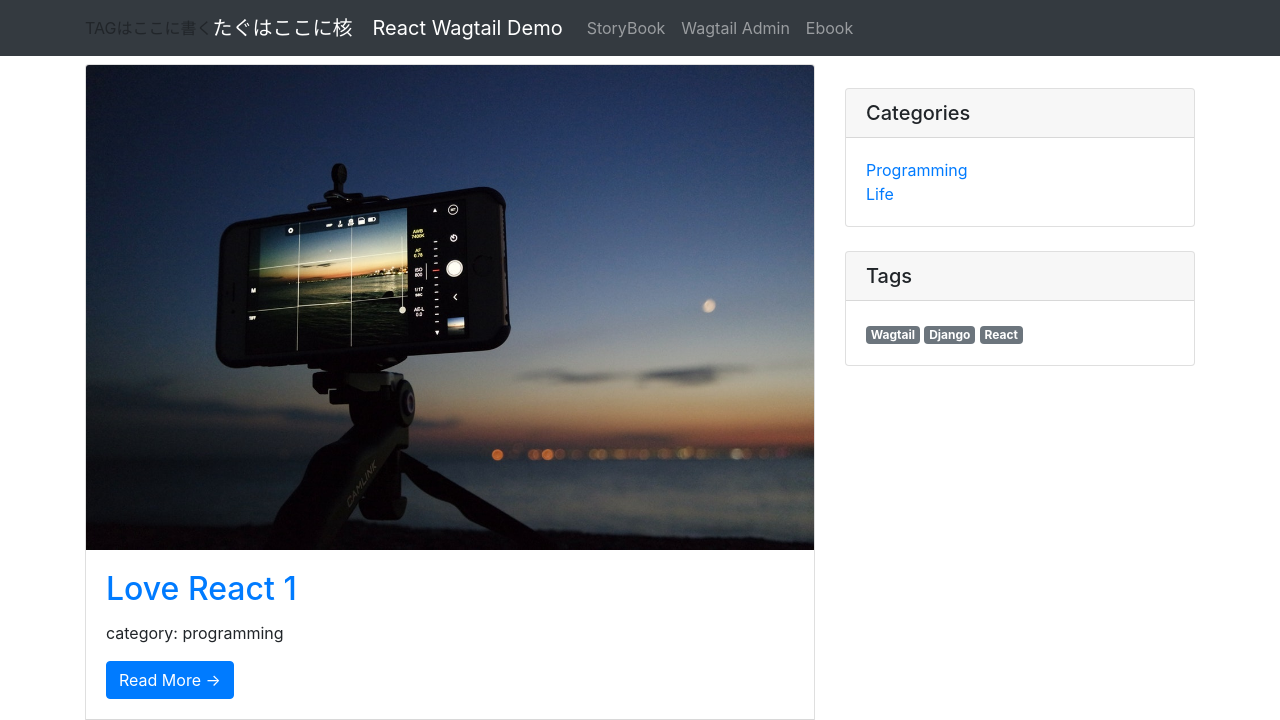
Scenario: Test Category Link
This screenshot has width=1280, height=720.
Click the link "Programming". click: [917, 170]
box: [866, 160, 968, 180]
(page scrolled)
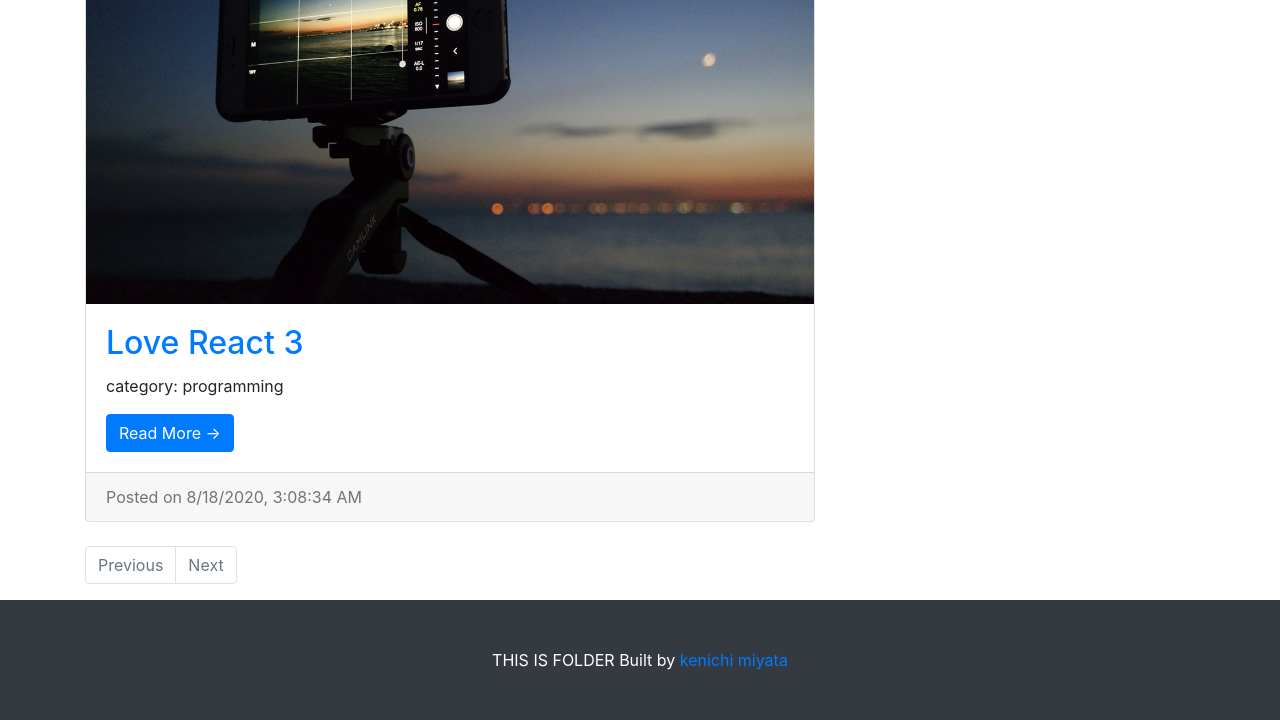
Expected: the link "Love React 3" is shown, [106, 323, 304, 362]
